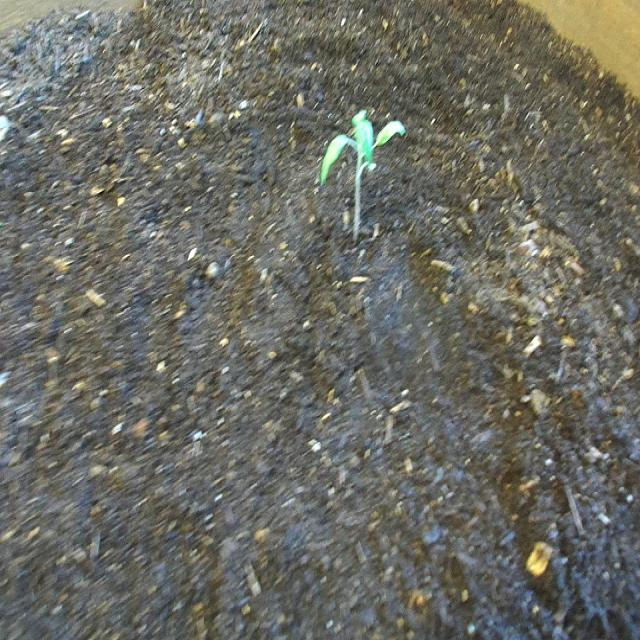Healthy: (314, 96, 410, 252)
